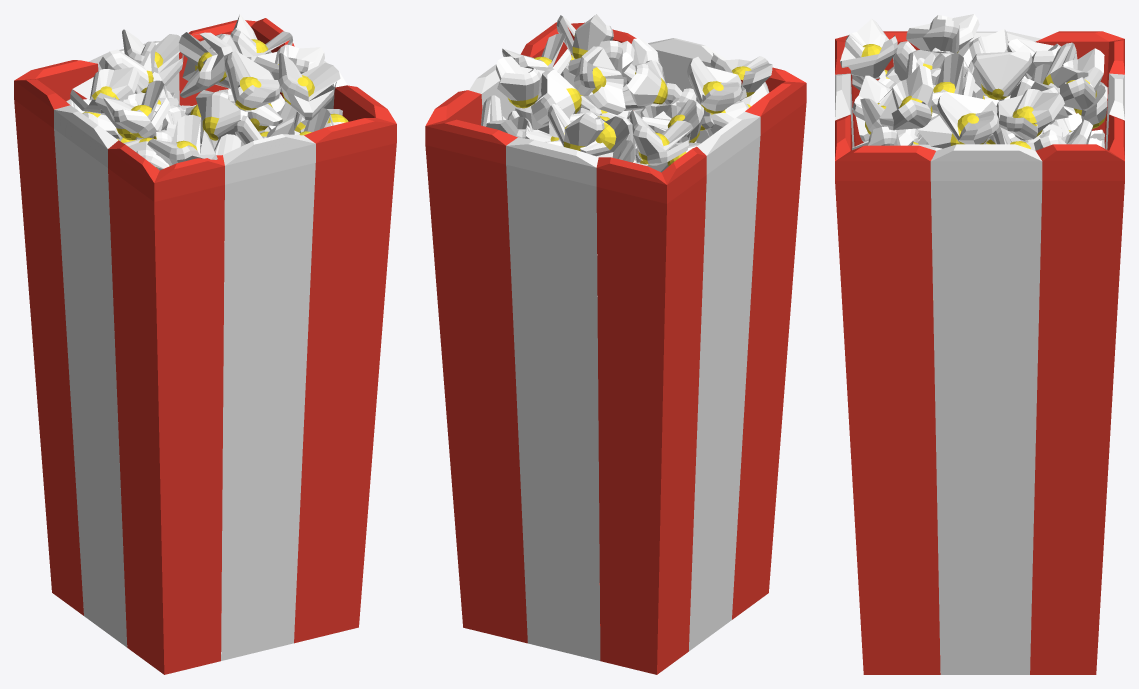
The model's file is popcorn.glb.
The picture shows the model from 3 angles, left to right: view 1: azimuth 30°, elevation 25°; view 2: azimuth 150°, elevation 25°; view 3: azimuth 270°, elevation 25°; orthographic projection. The views are drawn at different scales.
Parts seen in each view (by area): view 1: group1669640596, group438610892; view 2: group1669640596, group438610892; view 3: group1669640596, group438610892.
Part boxes in pixels (x1,y1,x2,y2): group1669640596: (14,18,396,674); group438610892: (54,14,348,660); group1669640596: (425,22,806,674); group438610892: (469,14,772,660); group1669640596: (835,31,1124,674); group438610892: (835,14,1124,674).
Bounding box in the file's own units: 0.67 × 1.49 × 0.67.
